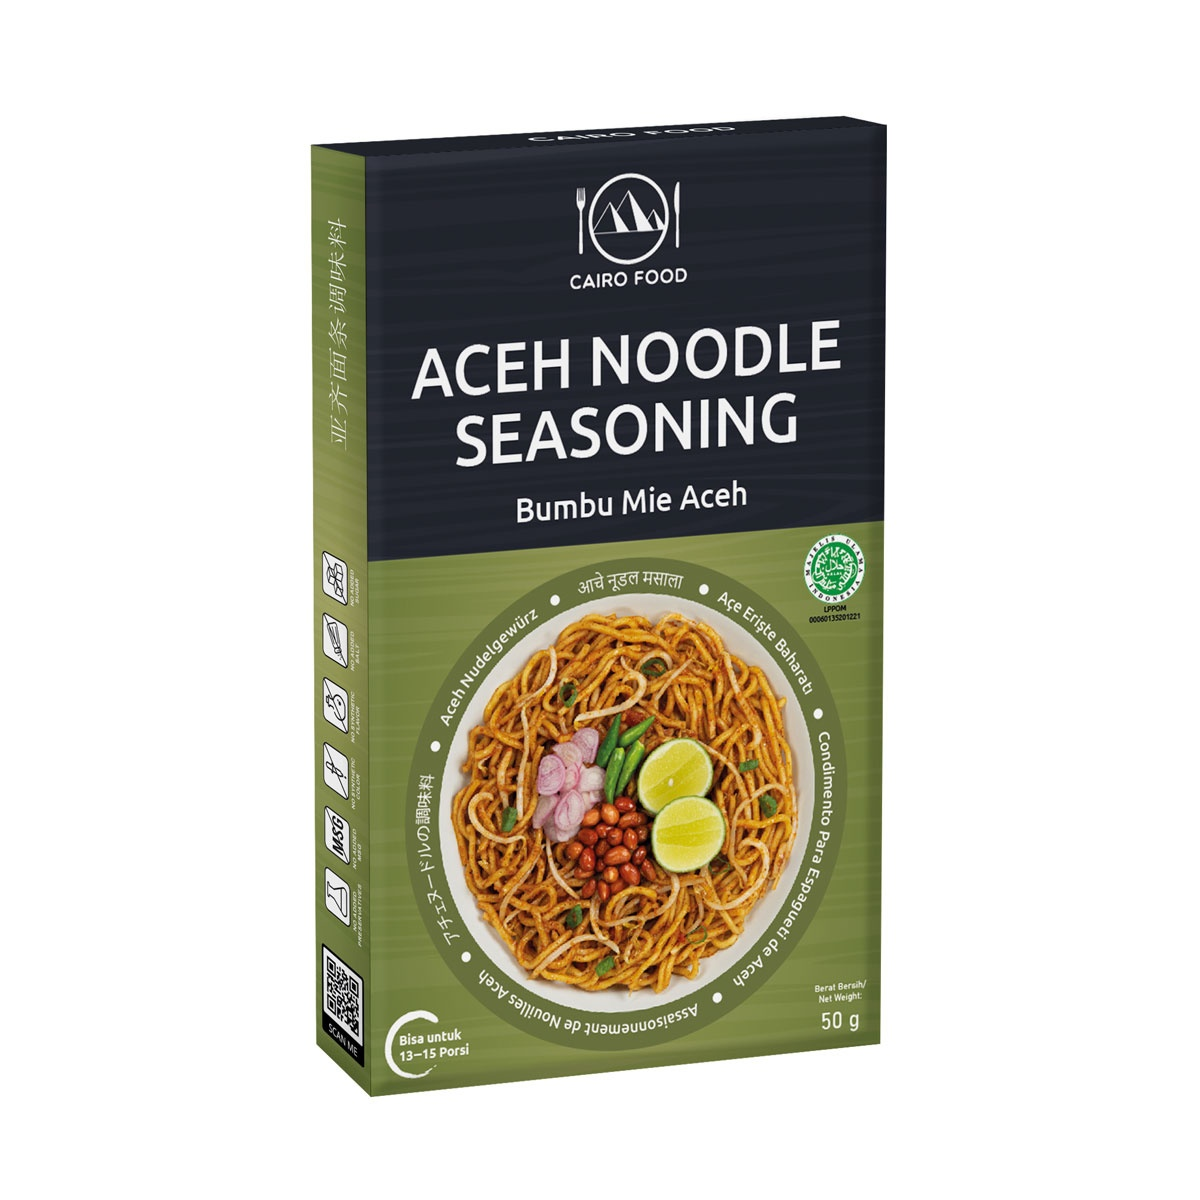mie_aceh: (460, 614, 804, 982)
